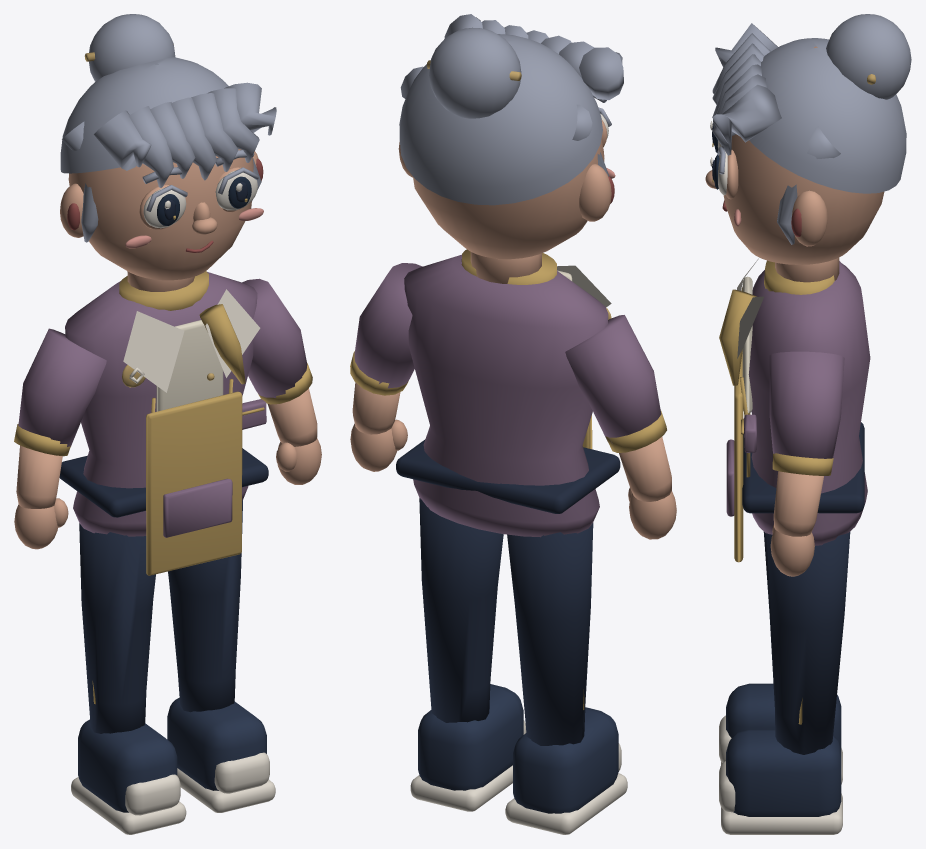
File: xingyin-characters-v1__blocky_character_f.glb
The picture shows the model from 3 angles, left to right: view 1: azimuth 30°, elevation 25°; view 2: azimuth 150°, elevation 25°; view 3: azimuth 270°, elevation 25°; orthographic projection. The views are drawn at different scales.
Parts seen in each view (by area): view 1: figure.005; view 2: figure.005; view 3: figure.005.
Boxes of the visible parts, <box> form: figure.005: <box>14,14,321,834</box>; figure.005: <box>350,14,676,834</box>; figure.005: <box>705,14,911,834</box>.
Size of the model in its own units: 1.05 by 2.5 by 0.5979.
